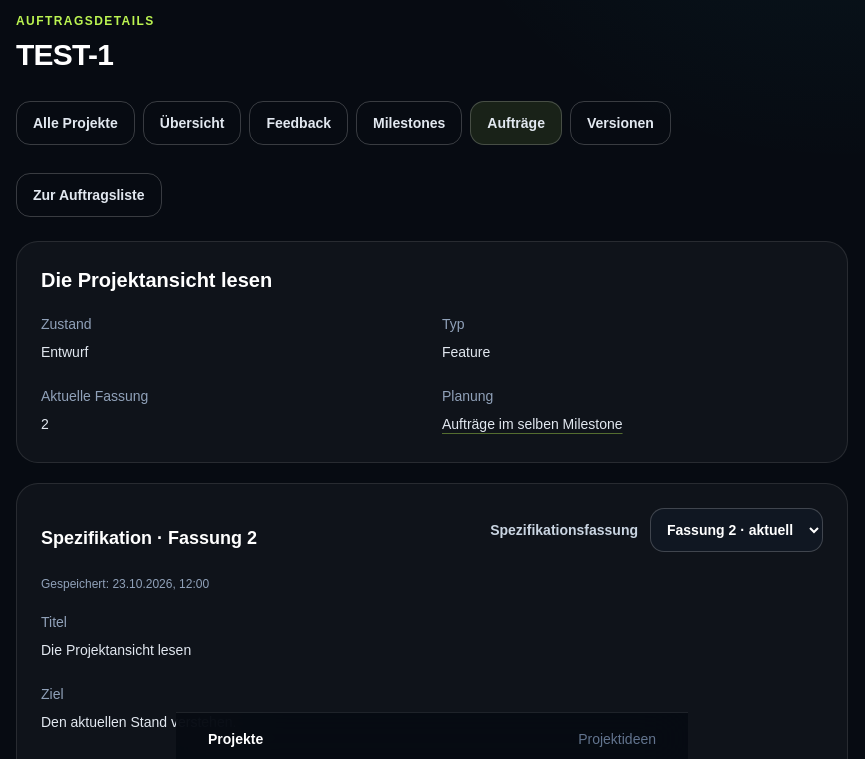
Test: LUUFI-9 Aufträge und Spezifikationen lesen › macht die vollständige Spezifikation und frühere unveränderte Fassungen lesbar
Check: the heading "TEST-1" is shown, box [16,38,113,71]
Check: the element named "Aktueller Auftragsstand" shows "Entwurf", box [41,344,88,360]
Select "Fassung 1" in the dropdown labelled "Spezifikationsfassung". click: (736, 530)
box: [650,508,823,552]
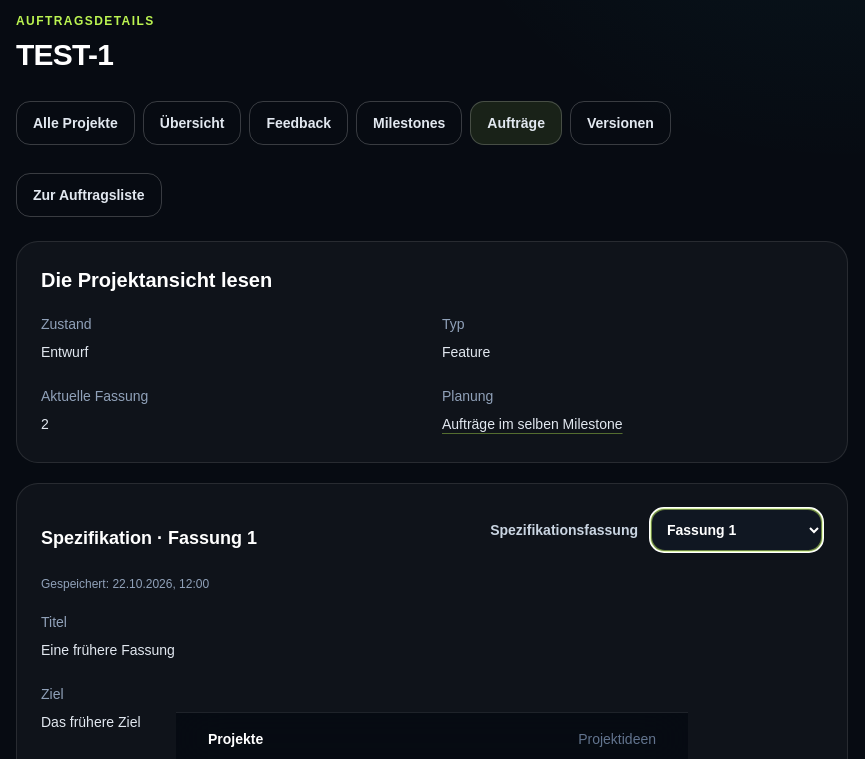
Check: the element named "Aktueller Auftragsstand" shows "Die Projektansicht lesen", box [41,269,272,291]
Check: the text "Das frühere Ziel" is shown, box [41,714,141,730]
Check: the text "Eine frühere Fassung" is shown, box [41,642,175,658]
